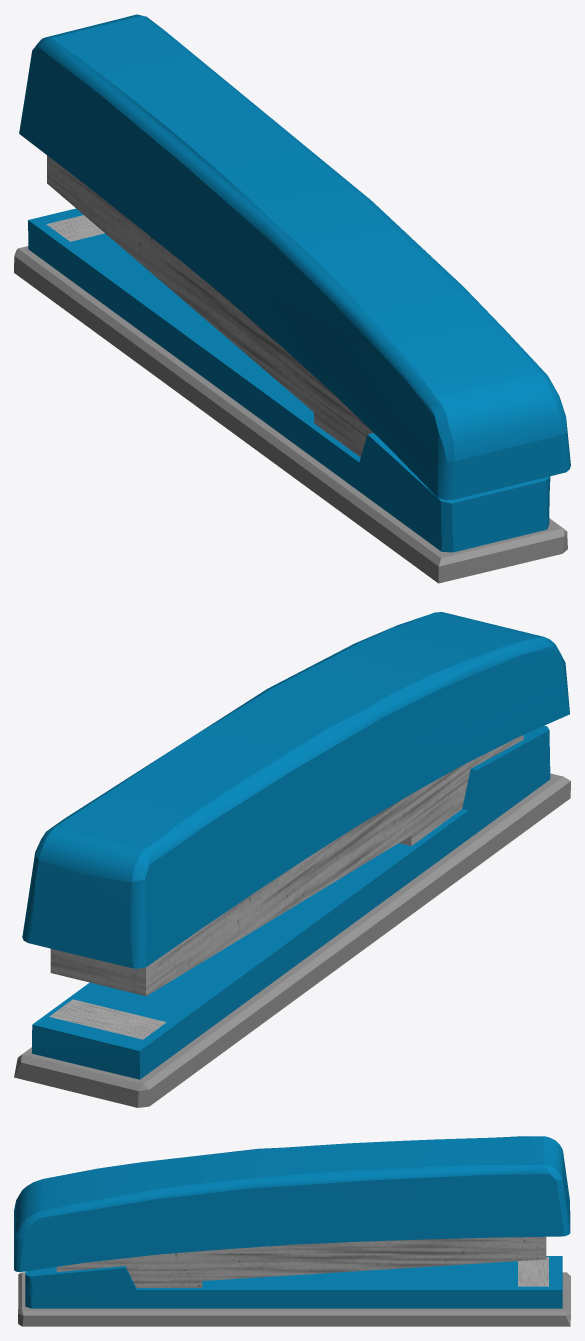
File: Grapadora.glb
3 views of the same model, one above another, from view 1: azimuth 30°, elevation 25°; view 2: azimuth 150°, elevation 25°; view 3: azimuth 270°, elevation 25° (orthographic). The views are drawn at different scales.
Visible parts, largest first — view 1: 21faeb9c-16f4-4acb-895b-48bf21effbfe, 57ebe515-fc0c-4426-9615-5decfe88c982, 3175028b-8ba0-4028-b892-84111f1dba67, 9525df2b-01e6-487d-8600-d8976577fdde, 451e1216-da53-412d-99cd-5bc0dbb4d912; view 2: 21faeb9c-16f4-4acb-895b-48bf21effbfe, 57ebe515-fc0c-4426-9615-5decfe88c982, 3175028b-8ba0-4028-b892-84111f1dba67, 9525df2b-01e6-487d-8600-d8976577fdde, 451e1216-da53-412d-99cd-5bc0dbb4d912; view 3: 21faeb9c-16f4-4acb-895b-48bf21effbfe, 57ebe515-fc0c-4426-9615-5decfe88c982, 9525df2b-01e6-487d-8600-d8976577fdde, 3175028b-8ba0-4028-b892-84111f1dba67, 451e1216-da53-412d-99cd-5bc0dbb4d912.
Part boxes in pixels (box(x1,y1,x2,y2)): 21faeb9c-16f4-4acb-895b-48bf21effbfe: box(19, 14, 570, 500); 57ebe515-fc0c-4426-9615-5decfe88c982: box(28, 208, 550, 552); 3175028b-8ba0-4028-b892-84111f1dba67: box(14, 246, 567, 583); 9525df2b-01e6-487d-8600-d8976577fdde: box(47, 155, 373, 456); 451e1216-da53-412d-99cd-5bc0dbb4d912: box(46, 215, 104, 241); 21faeb9c-16f4-4acb-895b-48bf21effbfe: box(22, 612, 569, 968); 57ebe515-fc0c-4426-9615-5decfe88c982: box(32, 725, 550, 1079); 3175028b-8ba0-4028-b892-84111f1dba67: box(14, 773, 570, 1107); 9525df2b-01e6-487d-8600-d8976577fdde: box(50, 735, 523, 995); 451e1216-da53-412d-99cd-5bc0dbb4d912: box(49, 999, 166, 1039); 21faeb9c-16f4-4acb-895b-48bf21effbfe: box(14, 1136, 570, 1272); 57ebe515-fc0c-4426-9615-5decfe88c982: box(25, 1256, 562, 1308); 9525df2b-01e6-487d-8600-d8976577fdde: box(56, 1236, 546, 1287); 3175028b-8ba0-4028-b892-84111f1dba67: box(18, 1272, 570, 1326); 451e1216-da53-412d-99cd-5bc0dbb4d912: box(518, 1257, 548, 1286).
Size of the model in its own units: 0.0269 by 0.0466 by 0.1512.
Materials: 3 (1 with a texture image).
